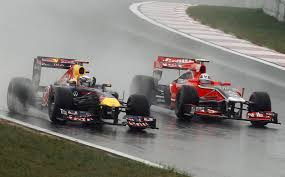race car: (6, 55, 159, 131), (127, 55, 282, 129)
